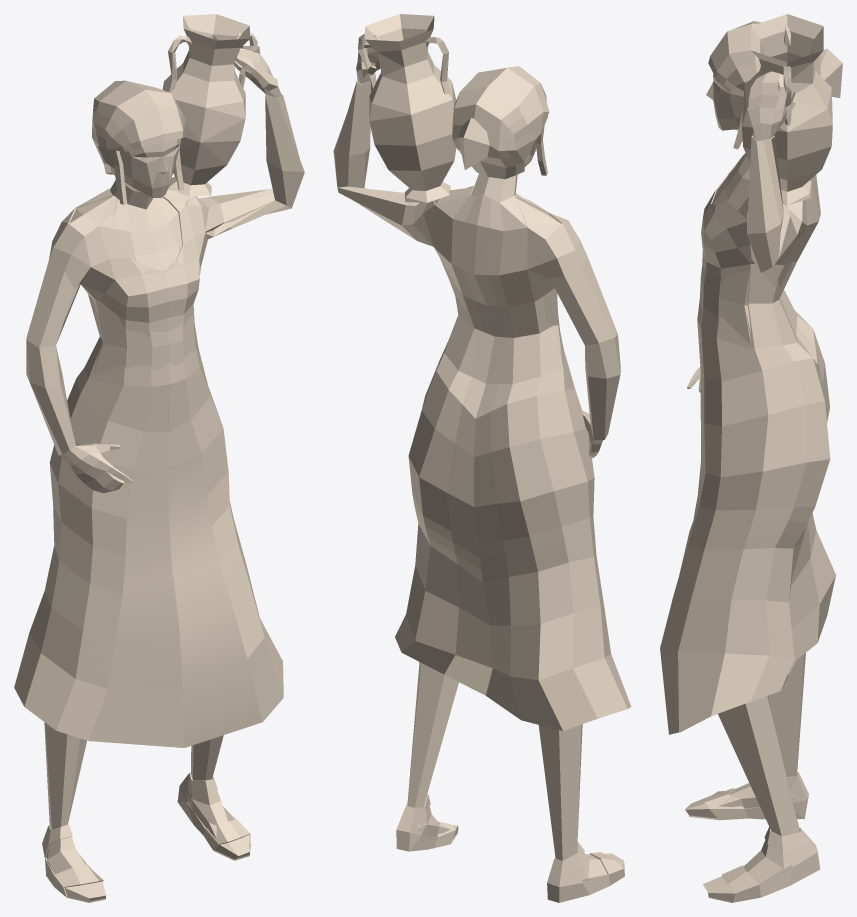
The model's file is Jar_on_the_shelf.fbx.
The picture shows the model from 3 angles, left to right: view 1: azimuth 30°, elevation 25°; view 2: azimuth 150°, elevation 25°; view 3: azimuth 270°, elevation 25°; orthographic projection. The views are drawn at different scales.
Visible parts, largest first — view 1: Jar on the shelf; view 2: Jar on the shelf; view 3: Jar on the shelf.
Boxes of the visible parts, left/top/right/bottom form: Jar on the shelf: left=14, top=14, right=304, bottom=902; Jar on the shelf: left=333, top=14, right=631, bottom=902; Jar on the shelf: left=660, top=14, right=842, bottom=902.
Size of the model in its own units: 227 by 625 by 119.
